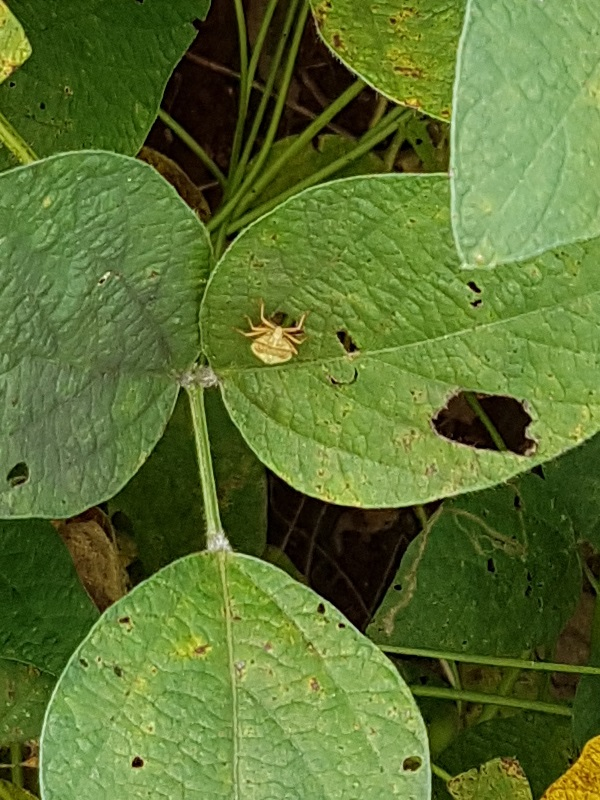Euschistus_heros_ninfa: (229, 297, 315, 375)
